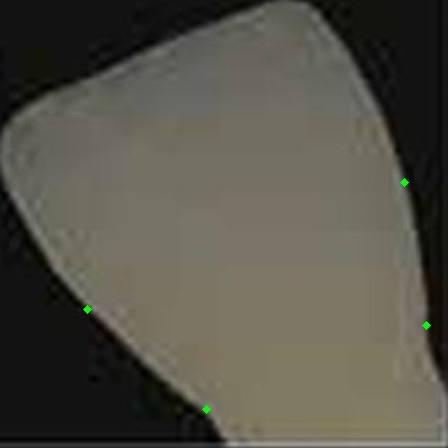coin_1: (426, 325, 446, 345)
coin_2: (404, 182, 424, 202)
coin_3: (206, 409, 226, 429)
coin_4: (87, 309, 107, 329)
